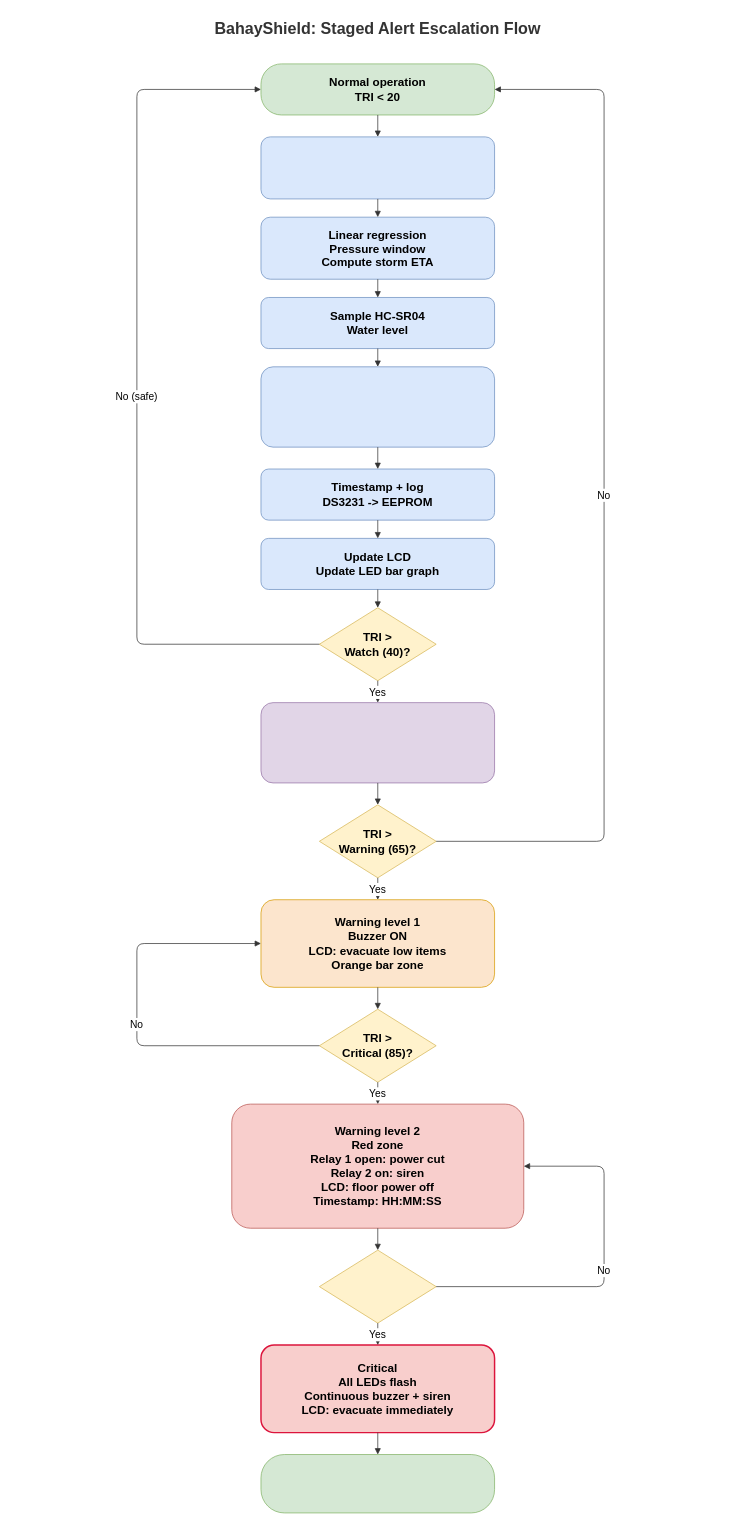
This 755x1526 diagram has some shape labels left out. Here are the shapes that lost their labels. From the top down, the box of each, then its label:
(260, 136, 495, 199): Sample BMP280 Every 60 s Append to rolling window
(260, 366, 495, 447): Compute TRI (dP x W1 + water x W2 + baseline x W3) Weights from active profile
(260, 702, 495, 783): Pre storm alert Alert LED ON LCD: storm ETA ~ XX min Yellow bar zone
(319, 1249, 436, 1323): TRI > Evacuate (95)?
(260, 1454, 495, 1513): Manual reset after event BTN3 + keypad confirm
